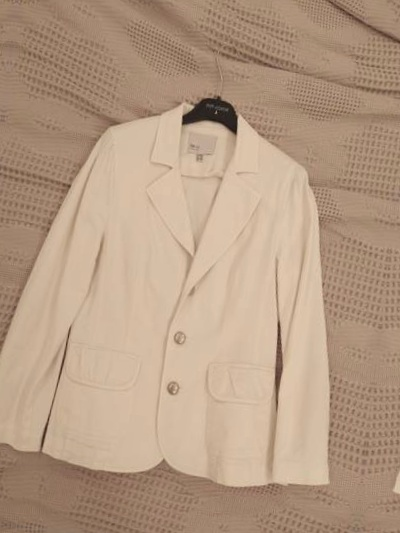Blazer: (0, 52, 387, 515), (379, 102, 400, 533), (0, 7, 10, 470)
